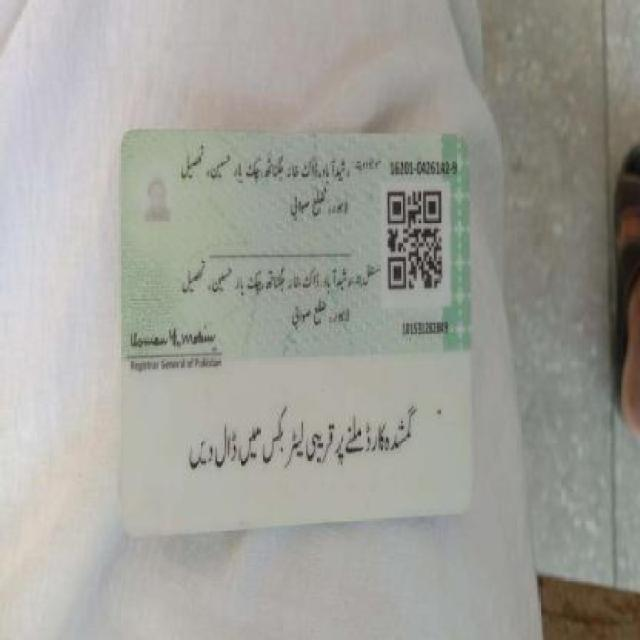Back: (117, 120, 483, 526)
